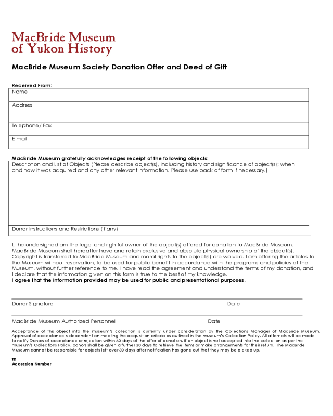textbox: (6, 159, 313, 227), (6, 99, 309, 125), (7, 134, 310, 151), (7, 87, 310, 103), (7, 121, 310, 137), (7, 223, 313, 237)
textline: (10, 284, 305, 303), (10, 284, 224, 303), (9, 305, 305, 318), (9, 304, 208, 319), (225, 284, 304, 303), (208, 305, 304, 317)
